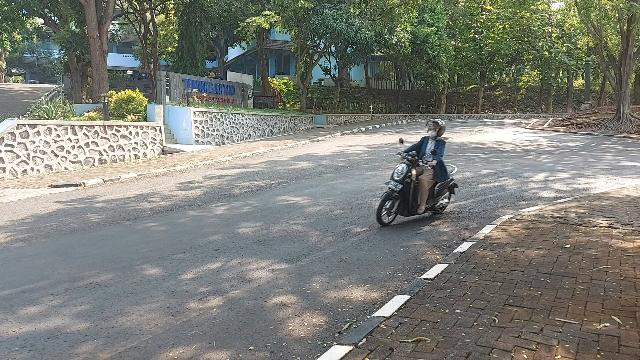helm: (427, 120, 446, 139)
motor: (378, 139, 460, 228)
